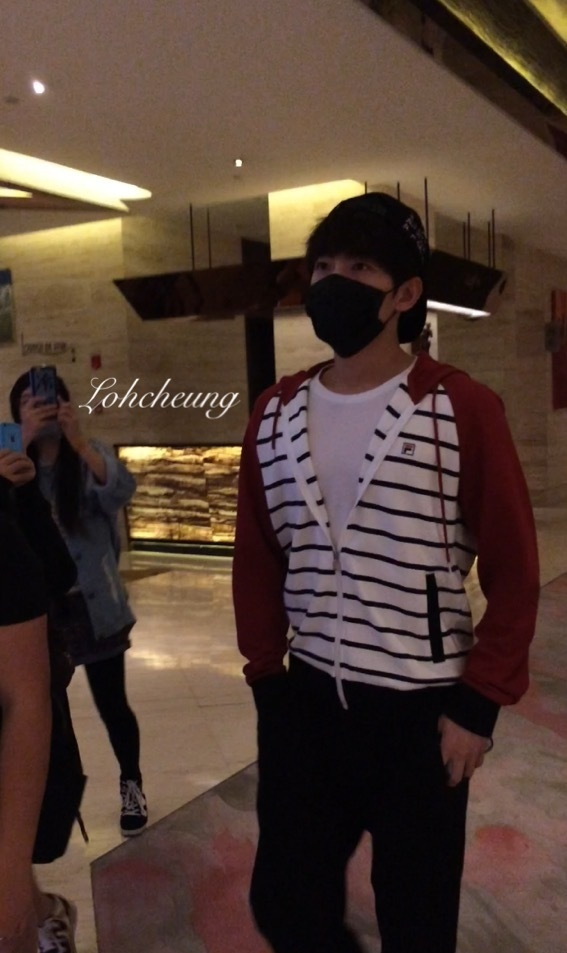face_mask: (308, 224, 393, 350)
